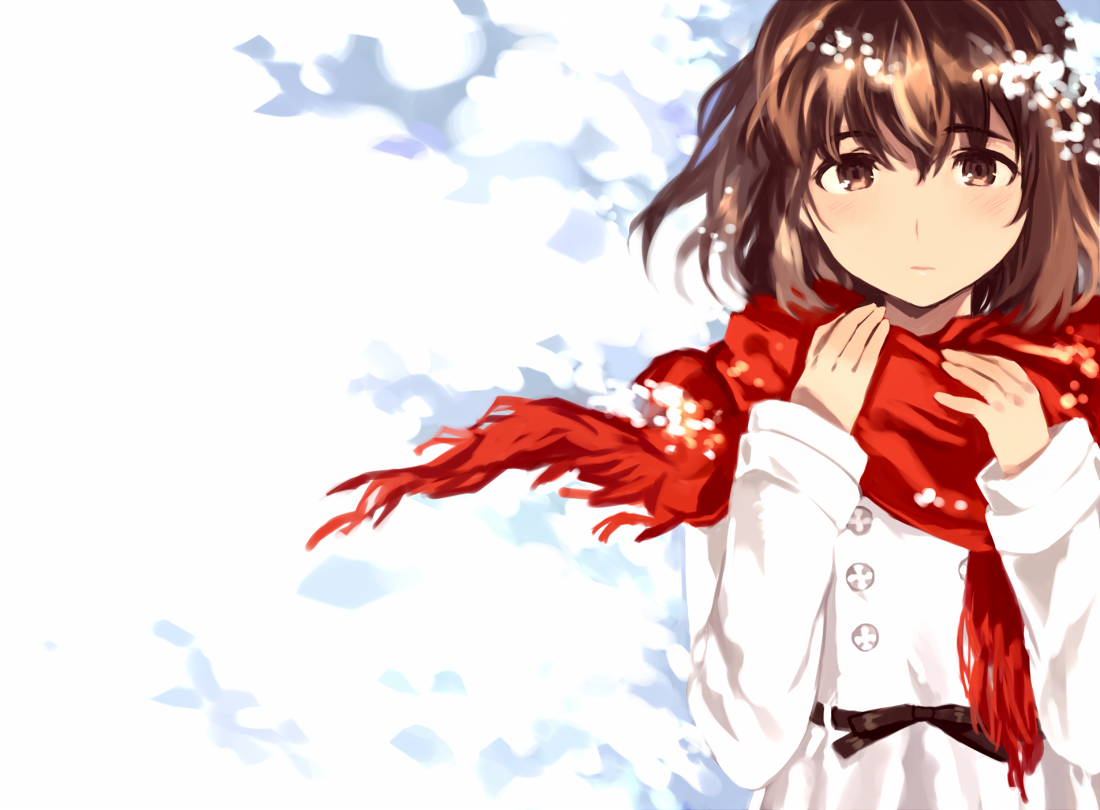纸片人正脸: (697, 0, 1088, 321)
